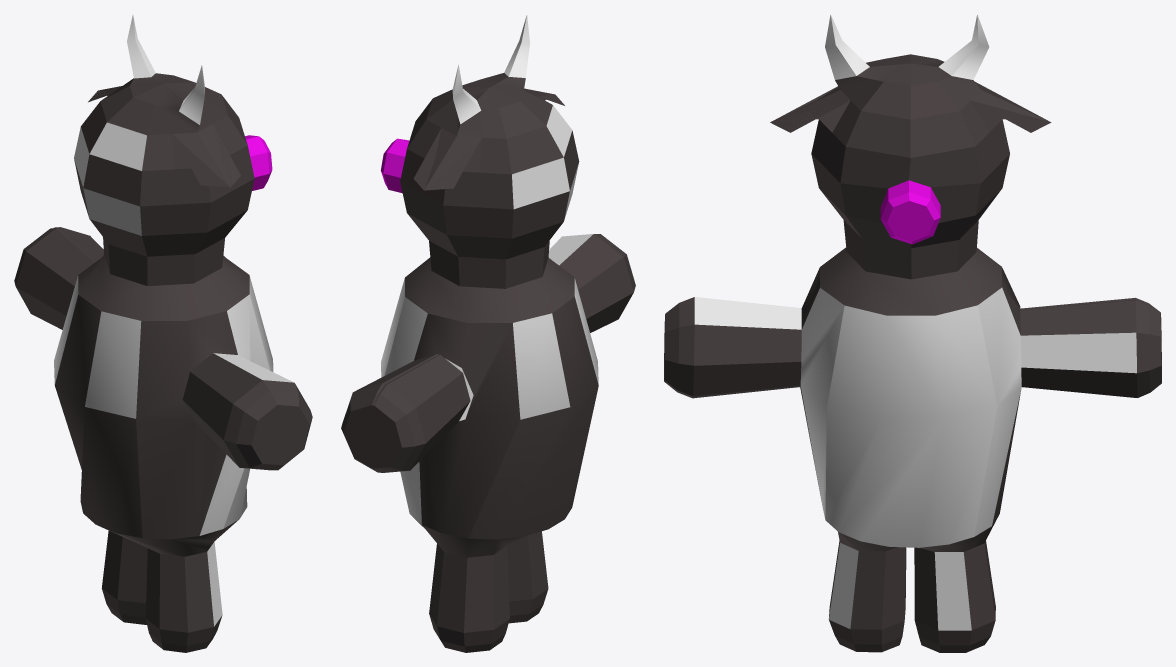
Rendered from echos cow plush.fbx.
3 renders of one model, left to right at view 1: azimuth 30°, elevation 25°; view 2: azimuth 150°, elevation 25°; view 3: azimuth 270°, elevation 25°, orthographic. The views are drawn at different scales.
Parts seen in each view (by area): view 1: pSphere2; view 2: pSphere2; view 3: pSphere2.
Boxes of the visible parts, bbox=[...] form: pSphere2: bbox=[14, 15, 312, 652]; pSphere2: bbox=[341, 15, 635, 652]; pSphere2: bbox=[664, 14, 1161, 652].
Bounding box in the file's own units: 9.1 × 26.26 × 18.93.
